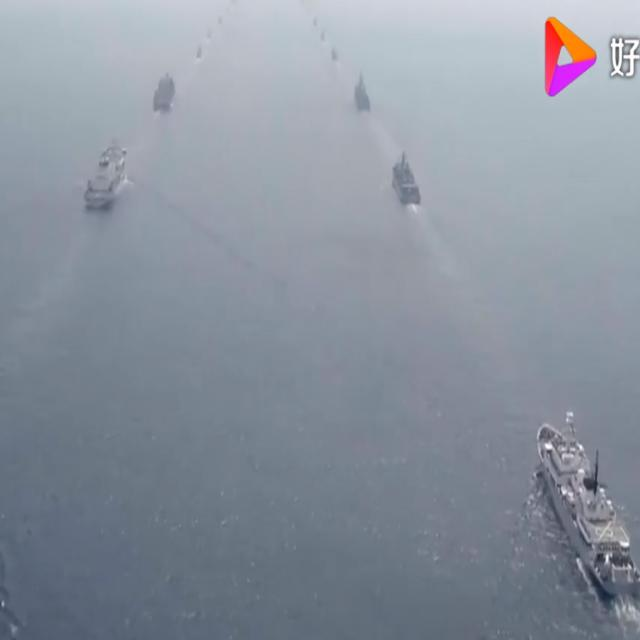navalvessels: (534, 408, 640, 608), (80, 141, 129, 215), (389, 151, 425, 213), (152, 68, 178, 113), (353, 71, 376, 115), (195, 45, 205, 62), (207, 23, 216, 40), (330, 48, 340, 63), (313, 16, 320, 32), (217, 13, 224, 25), (320, 29, 326, 42)
